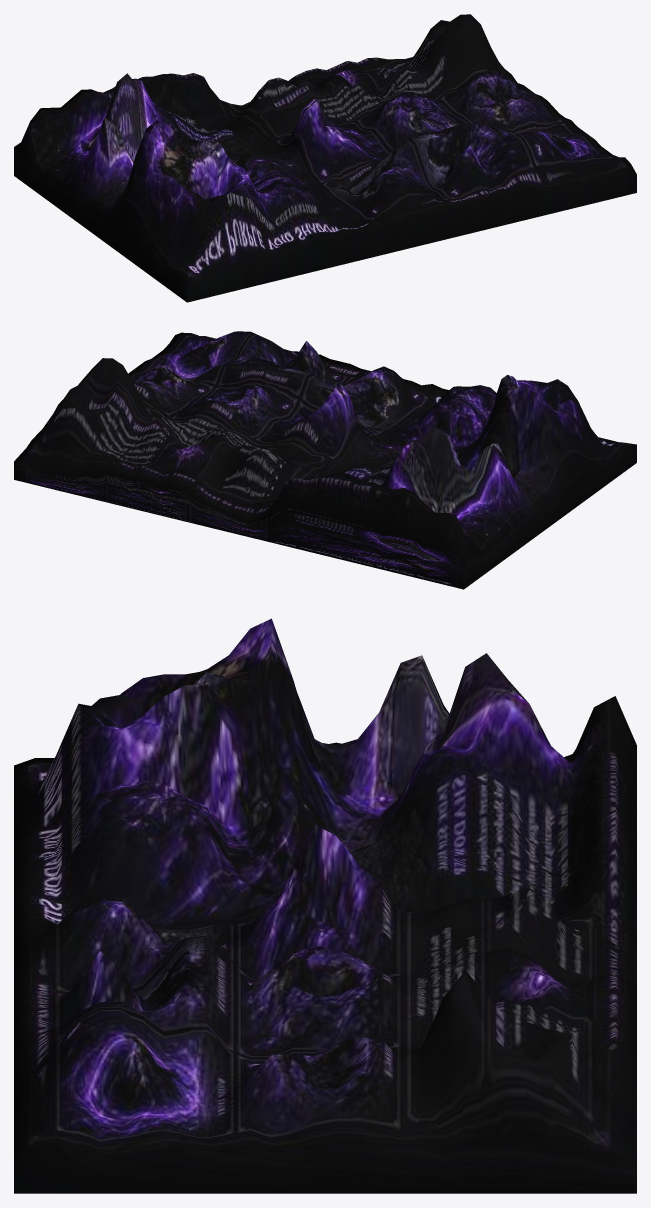
File: CUL_30_Dark_Shadow.glb
3 renders of one model, top to bottom at view 1: azimuth 30°, elevation 25°; view 2: azimuth 150°, elevation 25°; view 3: azimuth 270°, elevation 25°, orthographic. The views are drawn at different scales.
Visible parts, largest first — view 1: CUL_30_Dark_Shadow; view 2: CUL_30_Dark_Shadow; view 3: CUL_30_Dark_Shadow.
Part boxes in pixels (x1=…): CUL_30_Dark_Shadow: x1=14, y1=14, x2=636, y2=302; CUL_30_Dark_Shadow: x1=14, y1=331, x2=636, y2=589; CUL_30_Dark_Shadow: x1=14, y1=618, x2=636, y2=1193.
Bounding box in the file's own units: 2 × 0.51 × 1.33.
Materials: 1 (1 with a texture image).
